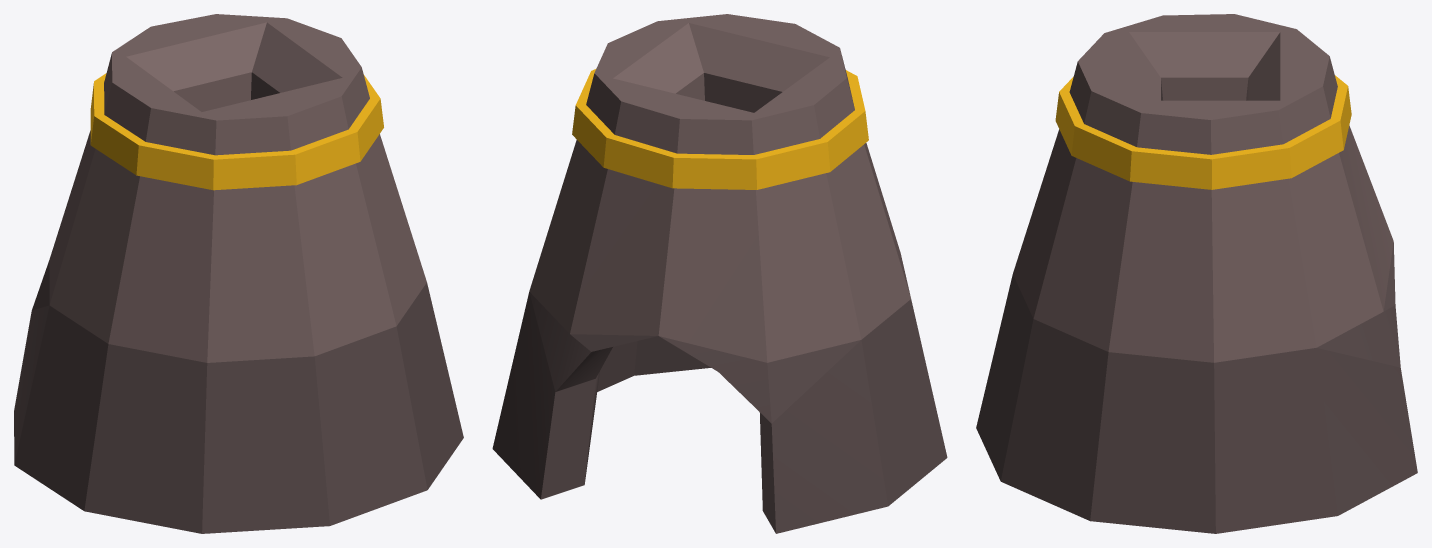
Rendered from KeyFurnace.fbx.
The picture shows the model from 3 angles, left to right: view 1: azimuth 30°, elevation 25°; view 2: azimuth 150°, elevation 25°; view 3: azimuth 270°, elevation 25°; orthographic projection.
Parts seen in each view (by area): view 1: KeyFurnace; view 2: KeyFurnace; view 3: KeyFurnace.
Boxes of the visible parts, x1=… form: KeyFurnace: x1=14, y1=14, x2=463, y2=533; KeyFurnace: x1=492, y1=14, x2=947, y2=533; KeyFurnace: x1=976, y1=14, x2=1417, y2=533.
Bounding box in the file's own units: 343 × 310 × 335.
